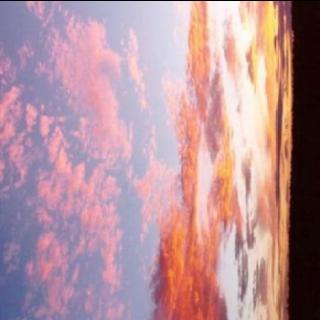Altostratus: (1, 0, 300, 320)
